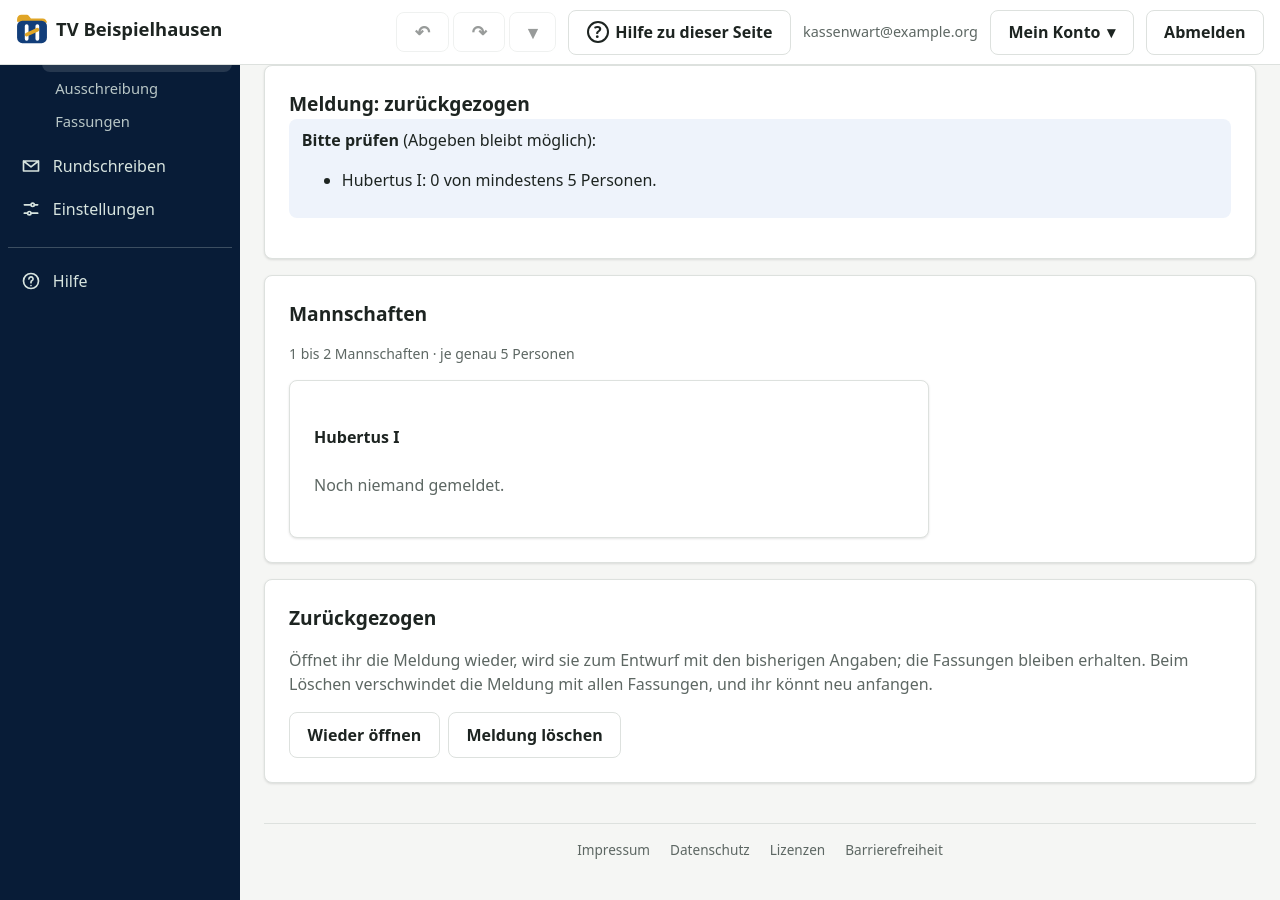
Test: Meldungen › öffnet eine zurückgezogene Meldung wieder
The width and height of the screenshot is (1280, 900).
(page scrolled)
Expected: the button "Meldung löschen" is shown, x1=448 y1=712 x2=621 y2=758
What coordinates should you click on to do the following:
click the button "Wieder öffnen"
I would click on:
 (364, 735)
Its box is x1=289 y1=712 x2=440 y2=758.
(page scrolled)
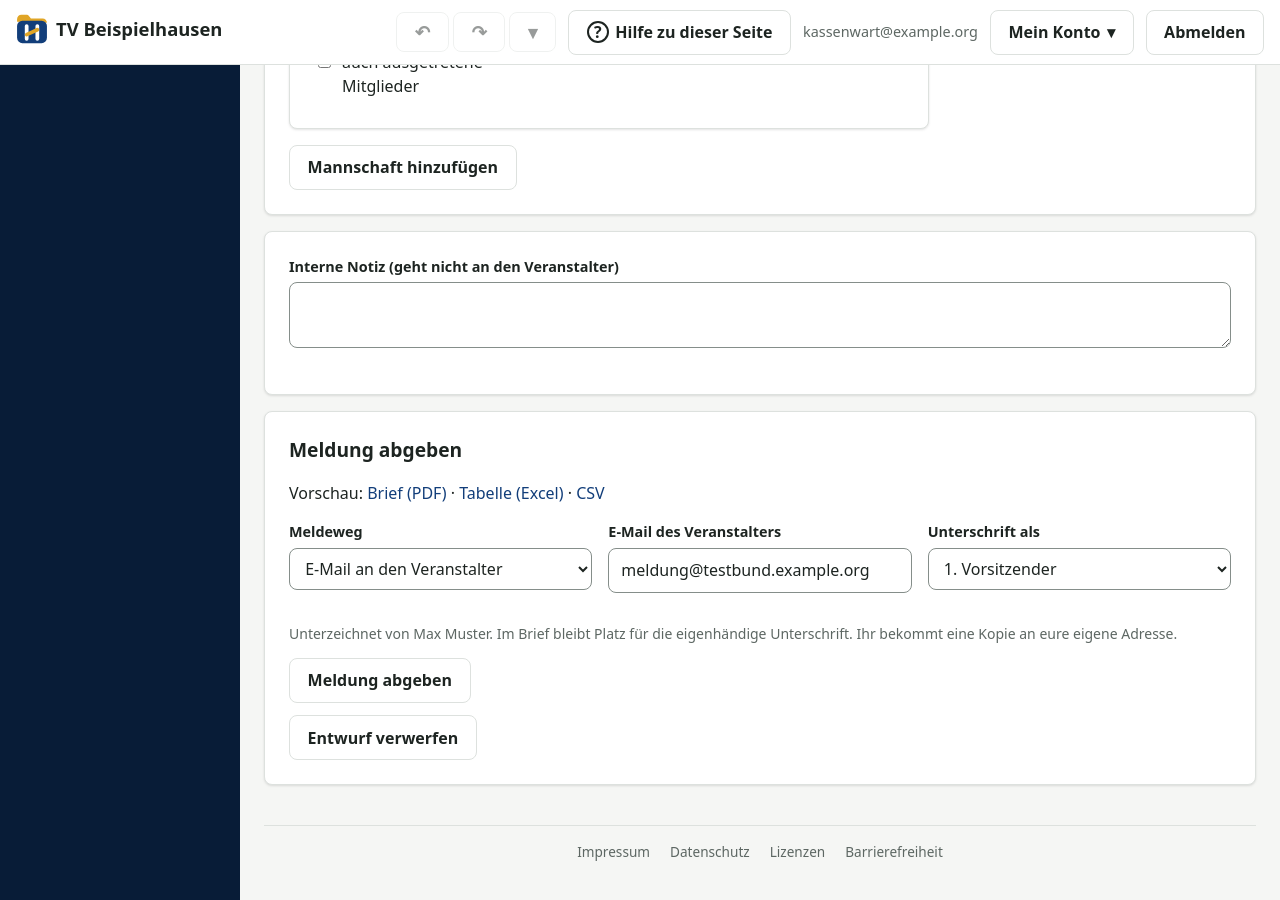
Expected: the heading "Meldung abgeben" is shown, x1=289 y1=436 x2=462 y2=465
